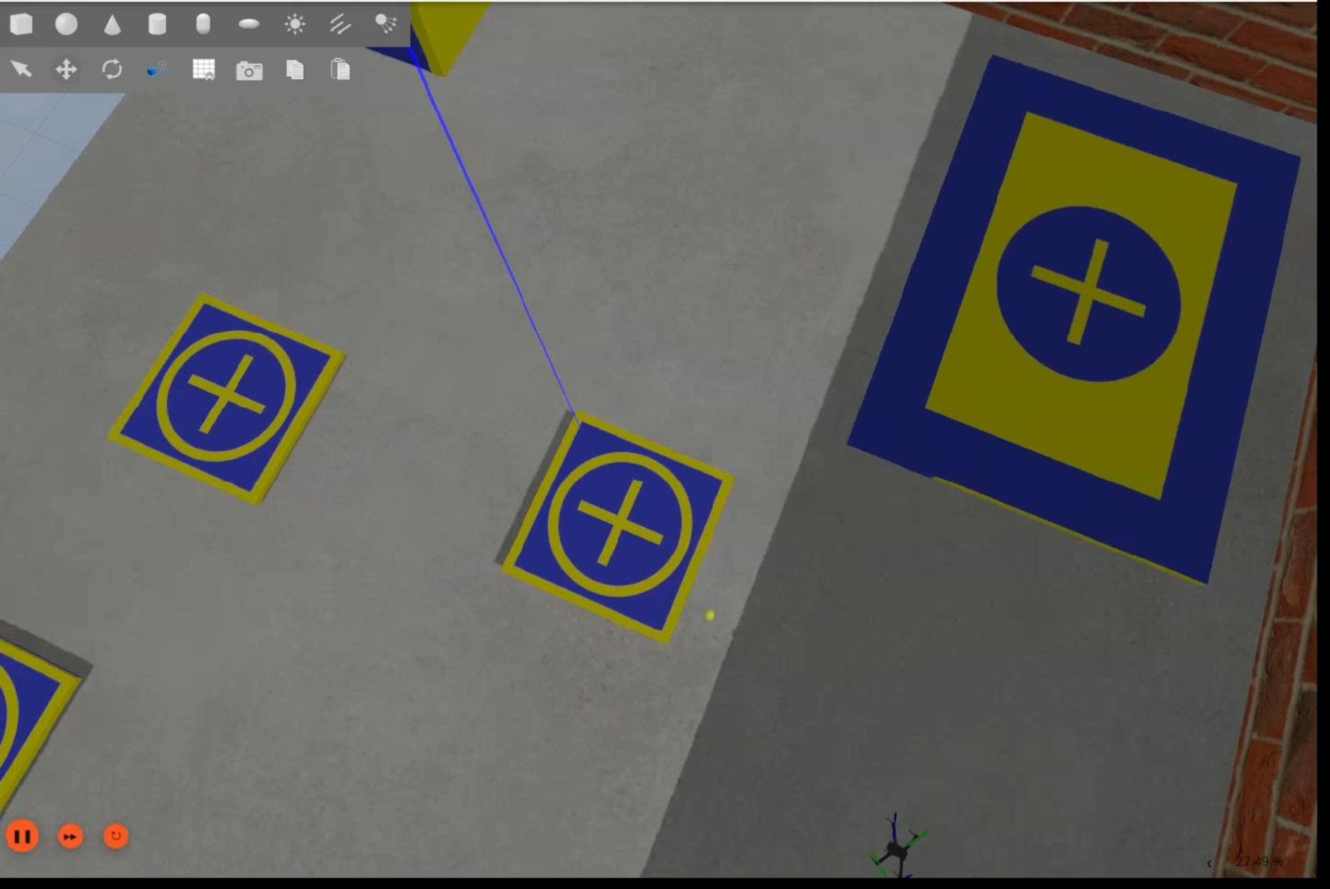large_base: (842, 49, 1305, 583)
small_base: (497, 415, 737, 643), (105, 291, 349, 512), (1, 634, 80, 820)
